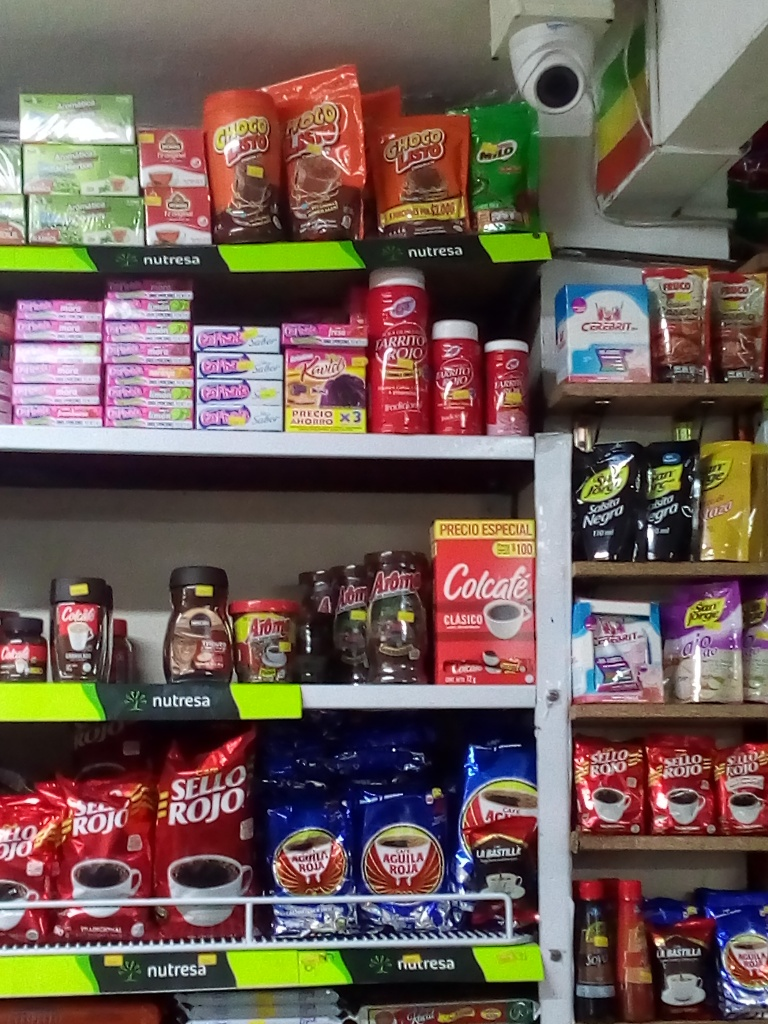COL0170203DYP10000: (468, 106, 538, 230)
